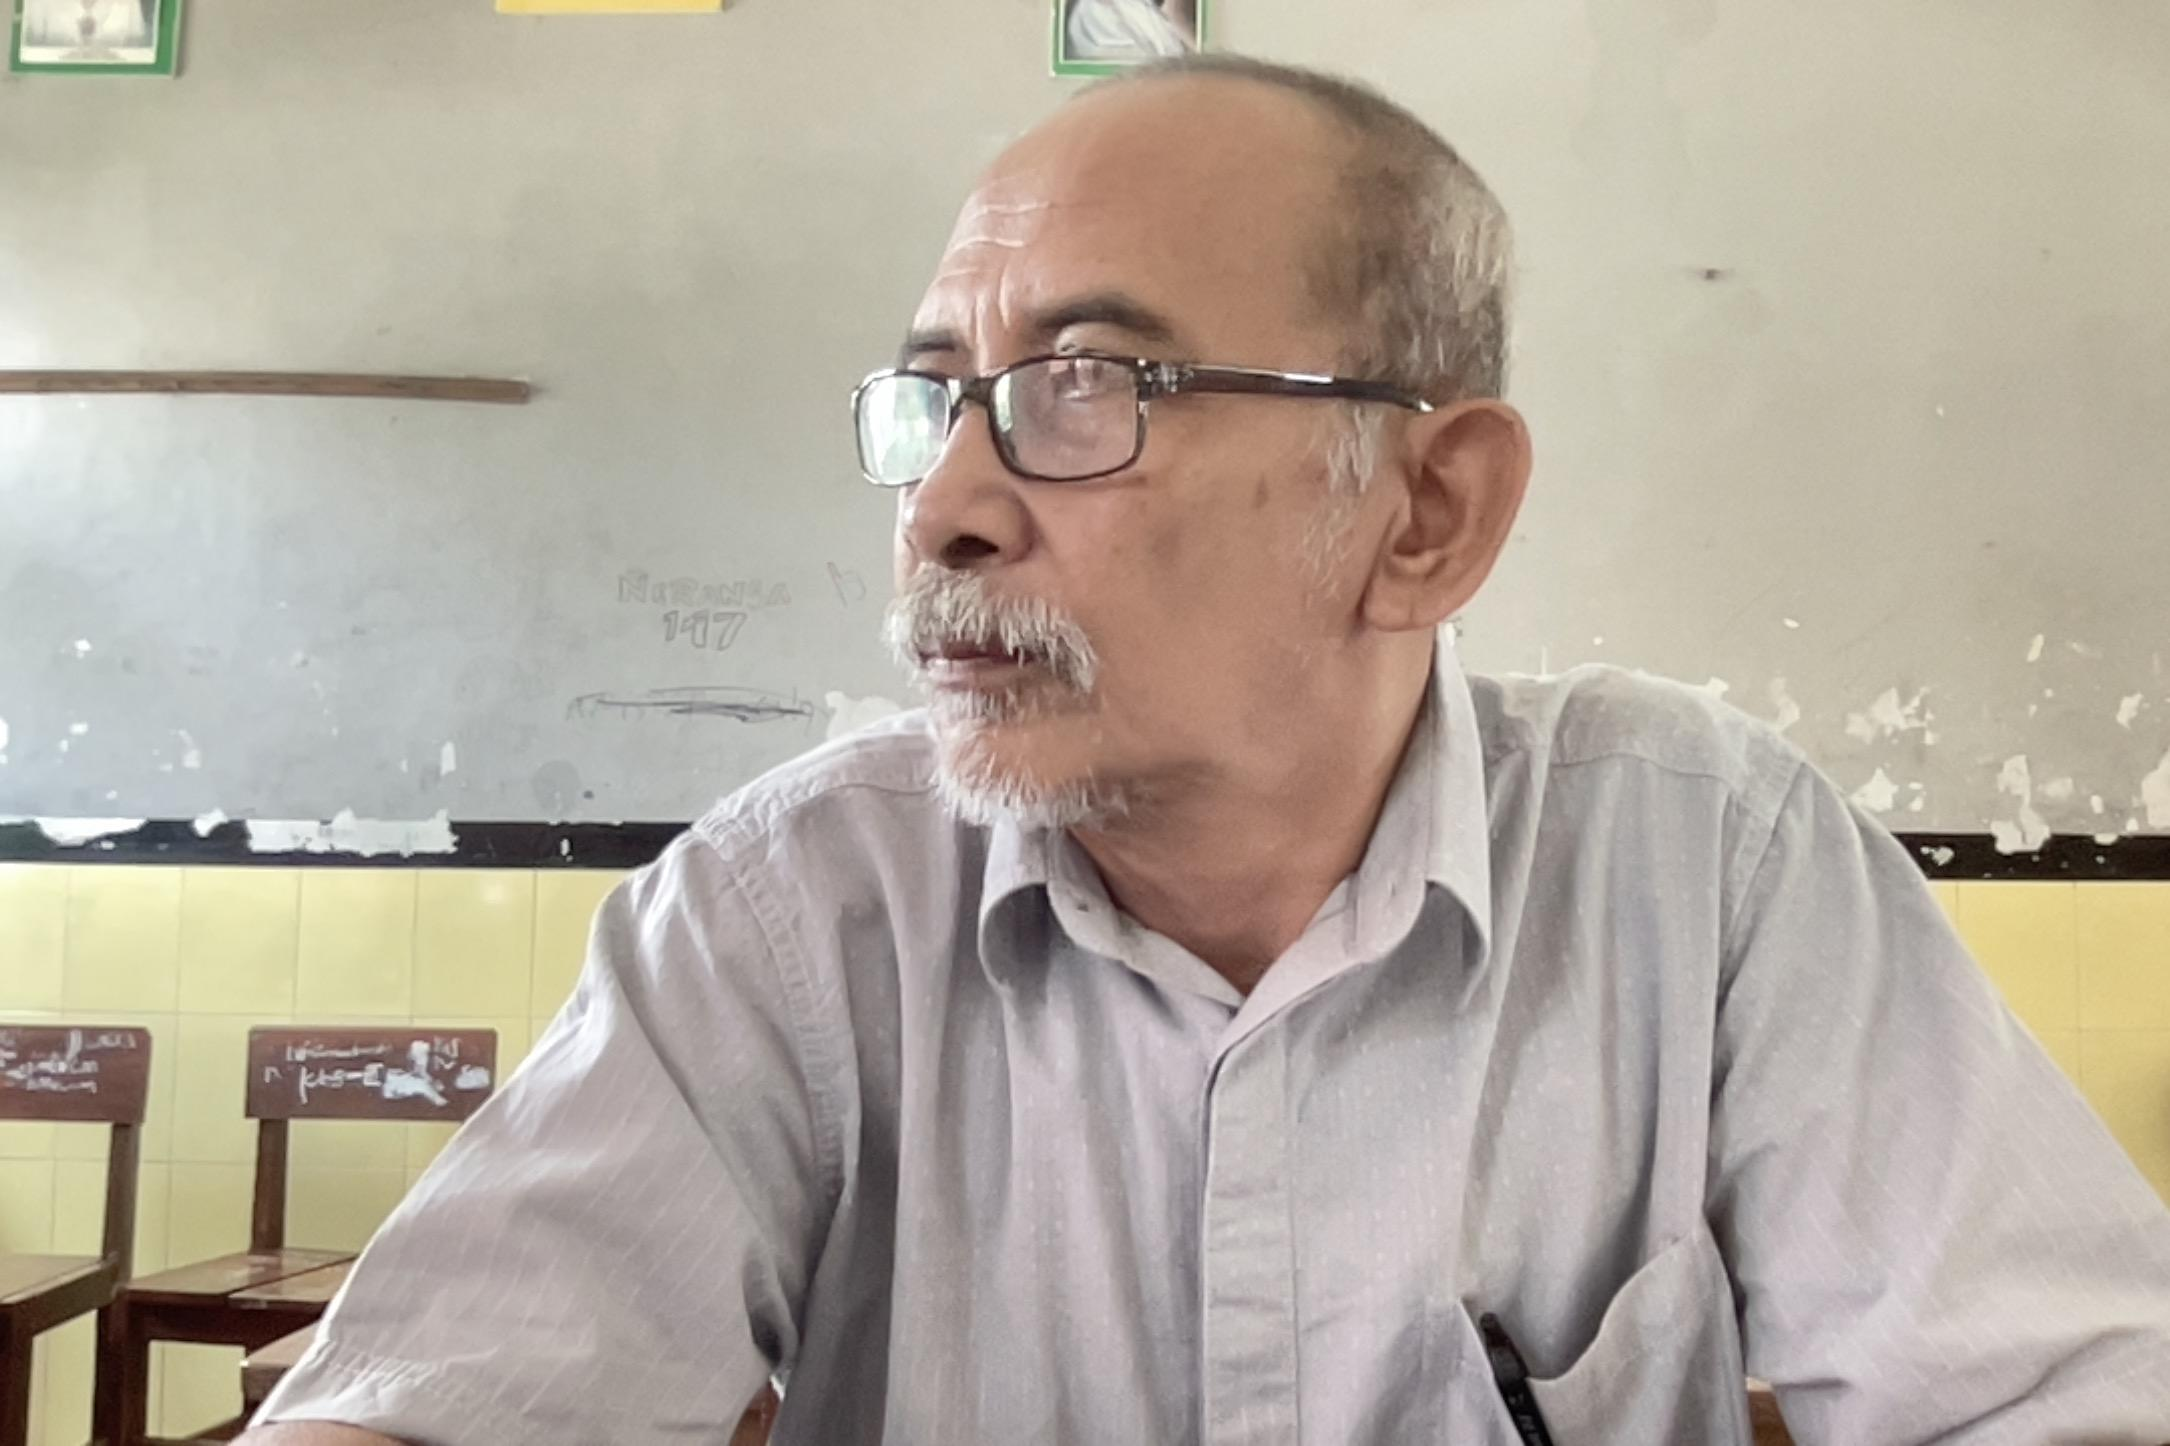cheating: (234, 24, 2170, 1446)
